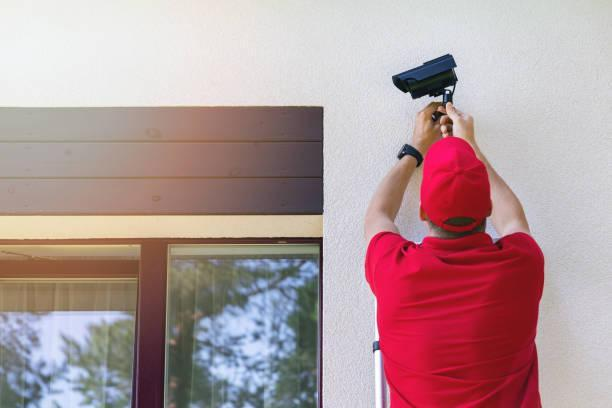camera: (375, 48, 482, 104)
